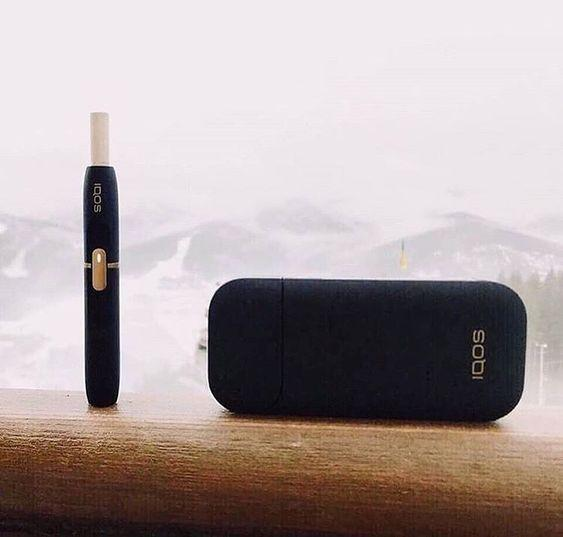iqos: (84, 113, 119, 407)
